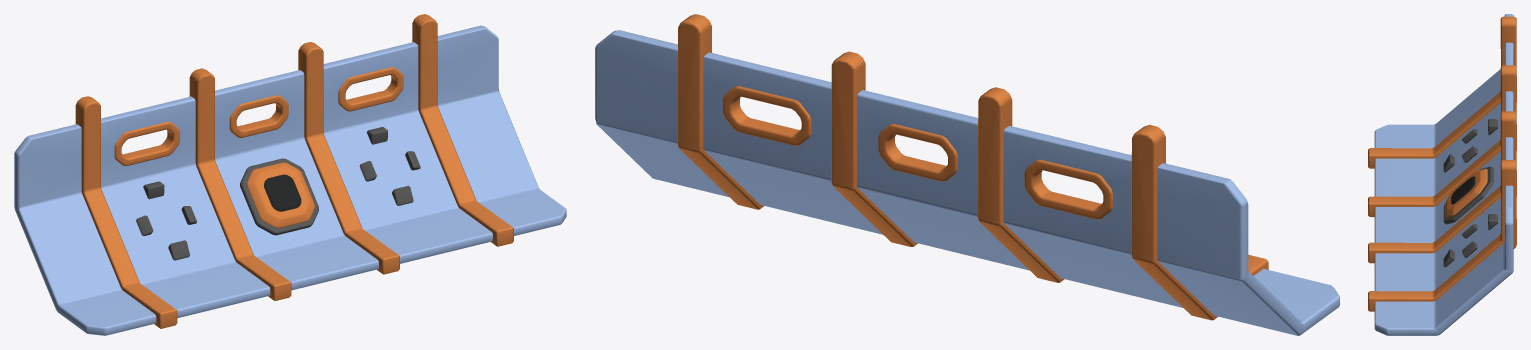
Rendered from board_001.fbx.
3 renders of one model, left to right at view 1: azimuth 30°, elevation 25°; view 2: azimuth 150°, elevation 25°; view 3: azimuth 270°, elevation 25°, orthographic. The views are drawn at different scales.
Visible parts, largest first — view 1: board_001; view 2: board_001; view 3: board_001.
Boxes of the visible parts, x1,y1,x2,y2 form: board_001: (14,14,566,335); board_001: (595,14,1339,335); board_001: (1368,14,1516,335).
Size of the model in its own units: 4306 by 1324 by 1450.
